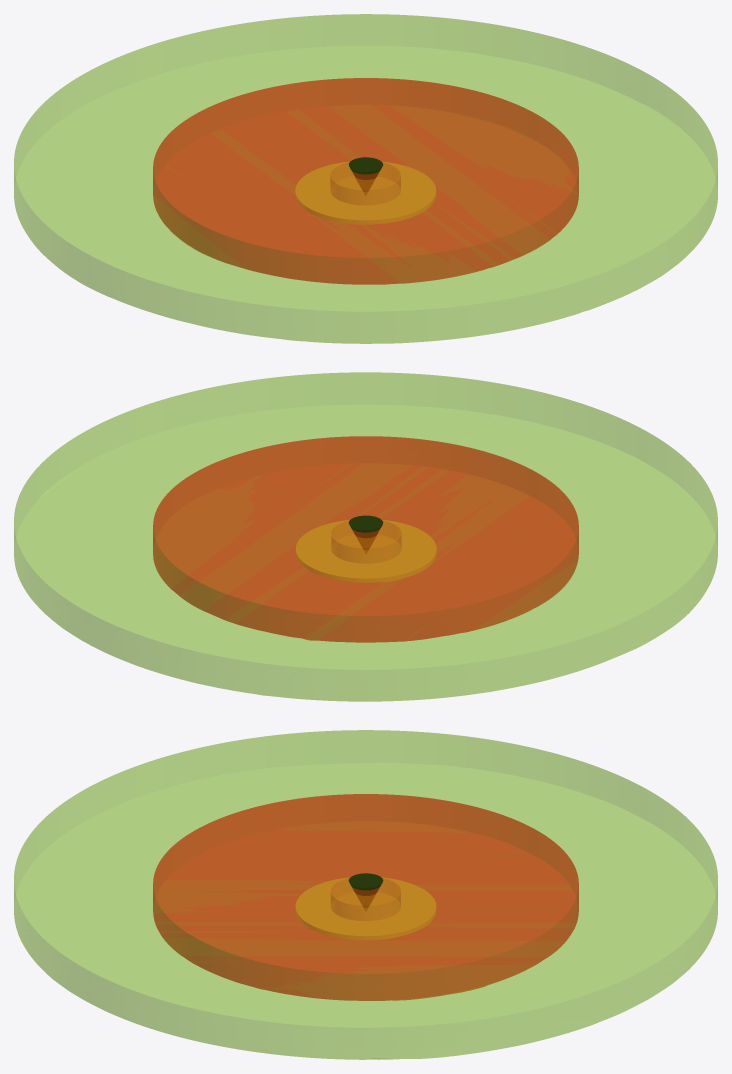
Rendered from Airspace5Buffers_TestLoc_OpaqueMarkers.glb.
3 renders of one model, top to bottom at view 1: azimuth 30°, elevation 25°; view 2: azimuth 150°, elevation 25°; view 3: azimuth 270°, elevation 25°, orthographic.
Parts seen in each view (by area): view 1: 1GlassFieldClassE, 2GlassField3nm, 4VictoriaHospitalHeliport, 5CYR309Pen, 1GlassFieldCenterMark; view 2: 1GlassFieldClassE, 2GlassField3nm, 4VictoriaHospitalHeliport, 5CYR309Pen, 1GlassFieldCenterMark; view 3: 1GlassFieldClassE, 2GlassField3nm, 4VictoriaHospitalHeliport, 5CYR309Pen, 1GlassFieldCenterMark.
Part boxes in pixels (left/top/right/bottom): 1GlassFieldClassE: left=14, top=14, right=717, bottom=343; 2GlassField3nm: left=153, top=78, right=578, bottom=284; 4VictoriaHospitalHeliport: left=296, top=162, right=435, bottom=223; 5CYR309Pen: left=330, top=162, right=400, bottom=204; 1GlassFieldCenterMark: left=348, top=157, right=383, bottom=187; 1GlassFieldClassE: left=14, top=372, right=717, bottom=701; 2GlassField3nm: left=153, top=436, right=578, bottom=642; 4VictoriaHospitalHeliport: left=296, top=520, right=435, bottom=577; 5CYR309Pen: left=331, top=521, right=401, bottom=562; 1GlassFieldCenterMark: left=348, top=515, right=383, bottom=548; 1GlassFieldClassE: left=14, top=730, right=717, bottom=1059; 2GlassField3nm: left=153, top=794, right=578, bottom=1000; 4VictoriaHospitalHeliport: left=296, top=878, right=435, bottom=936; 5CYR309Pen: left=331, top=878, right=400, bottom=920; 1GlassFieldCenterMark: left=348, top=873, right=383, bottom=906.
Size of the model in its own units: 18520 by 966 by 18520.
